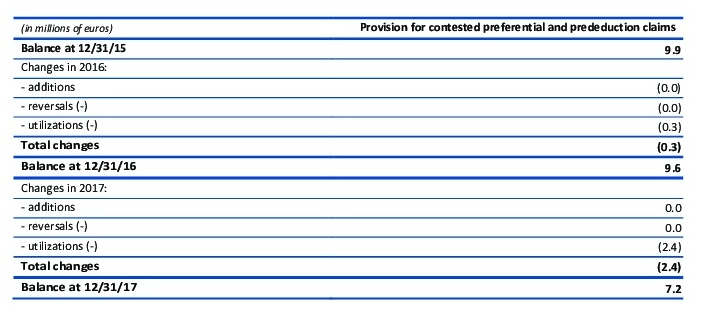table: (0, 0, 706, 317)
